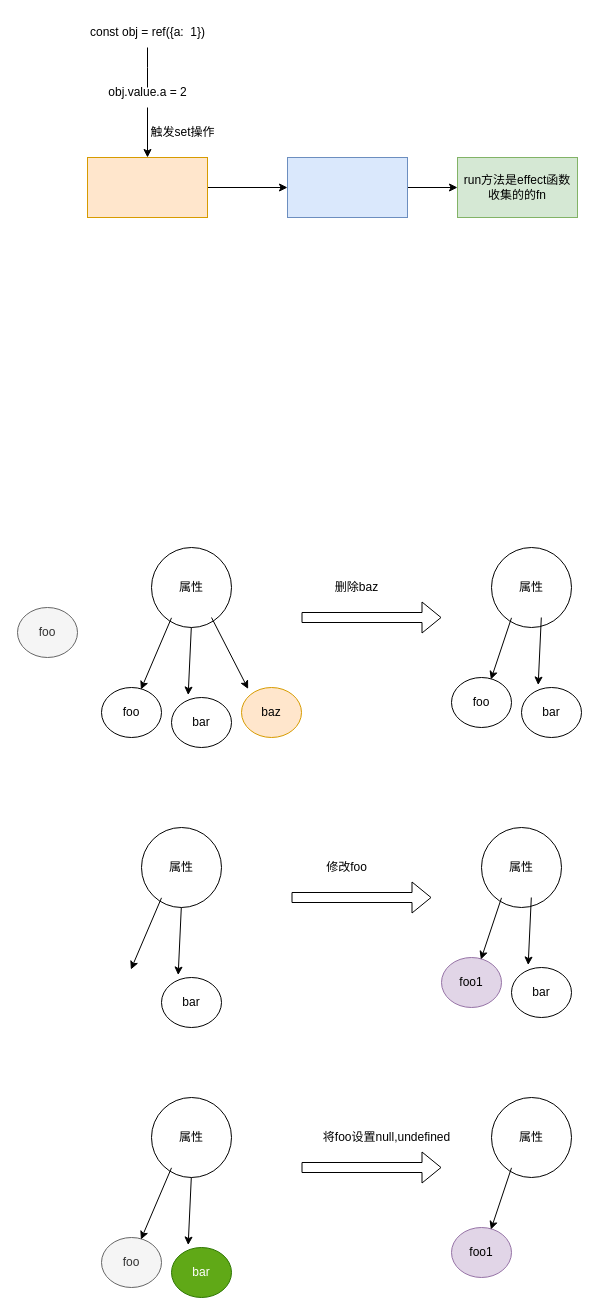
The diagram is 599 pixels wide and 1315 high, and some of its shapes have lost their labels. Each missing label, with the box of its shape:
在set中执行triggerEffect操作: (86, 156, 208, 218)
执行当前收集到依赖的run方法: (286, 156, 408, 218)
